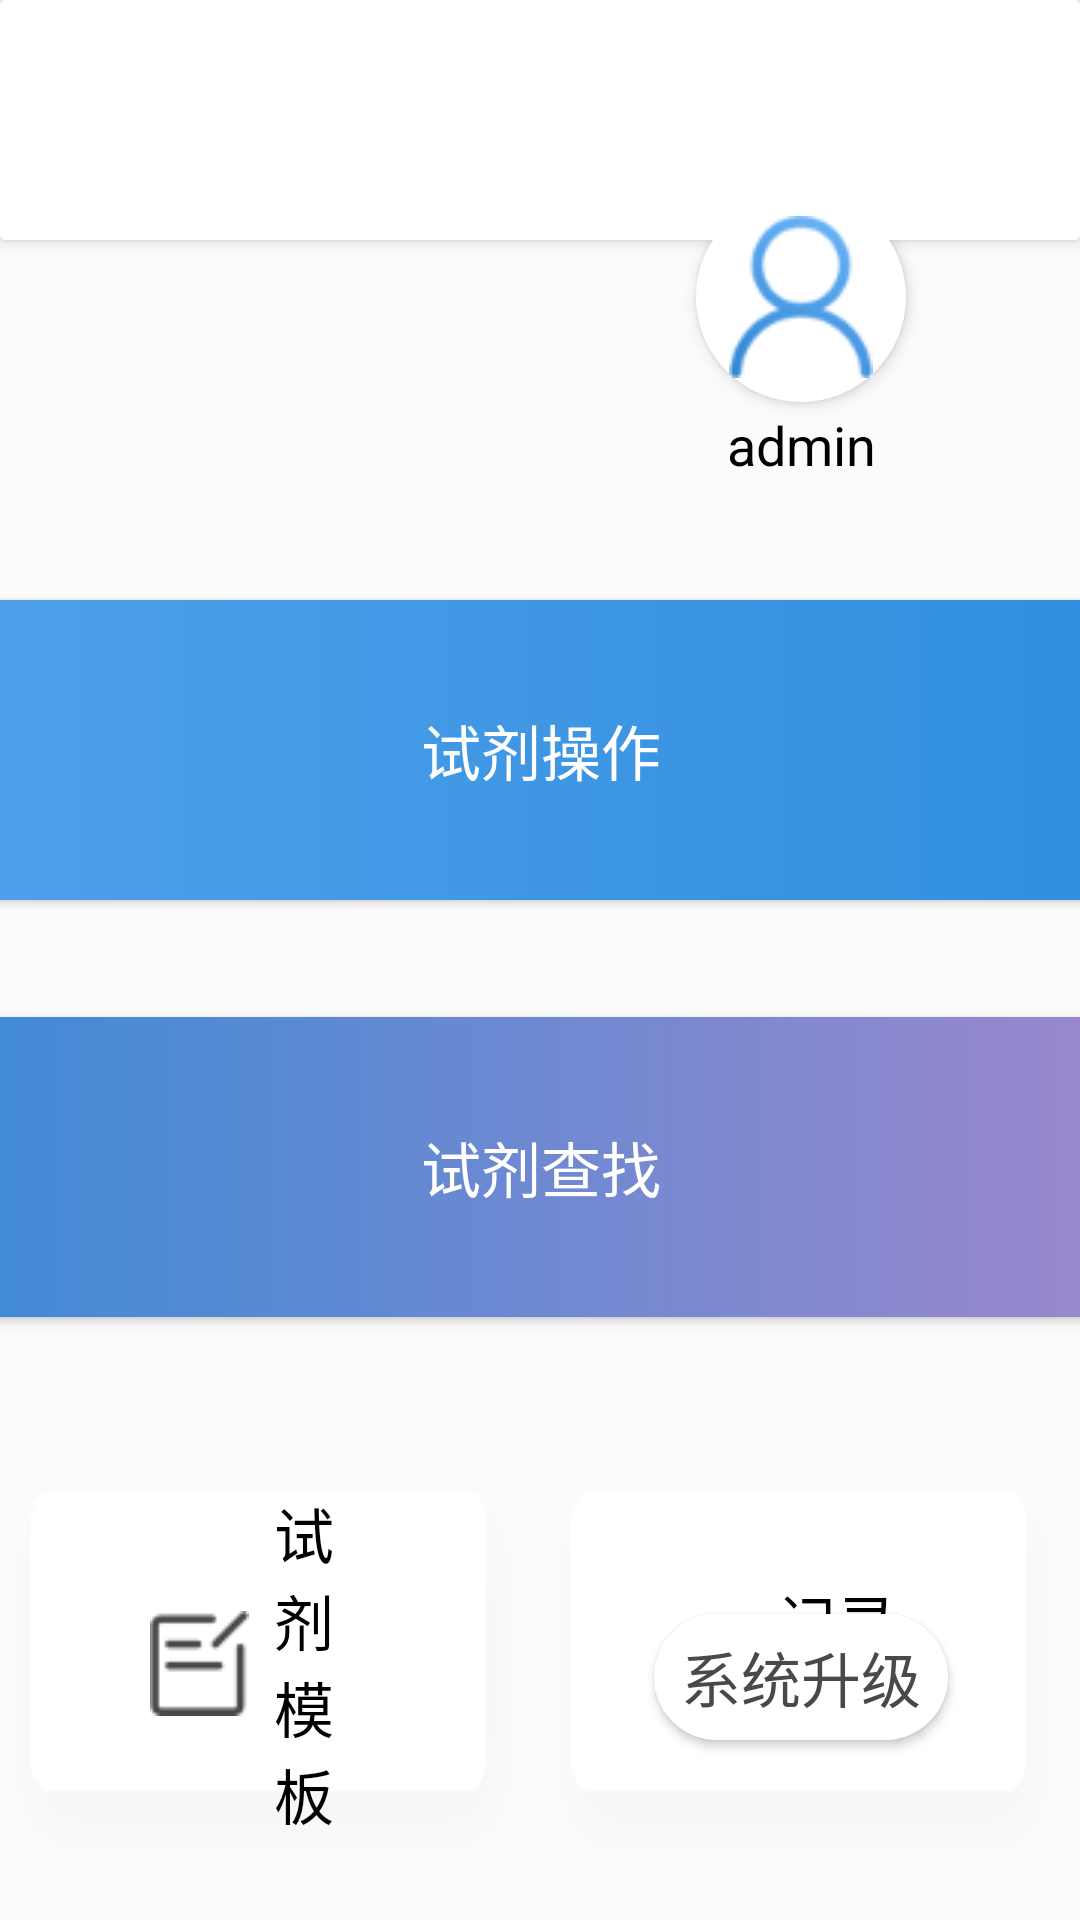

Point at icon controls on the screen. Image size 1080 × 1920, points as point (x, y).
person: point (801, 309)
